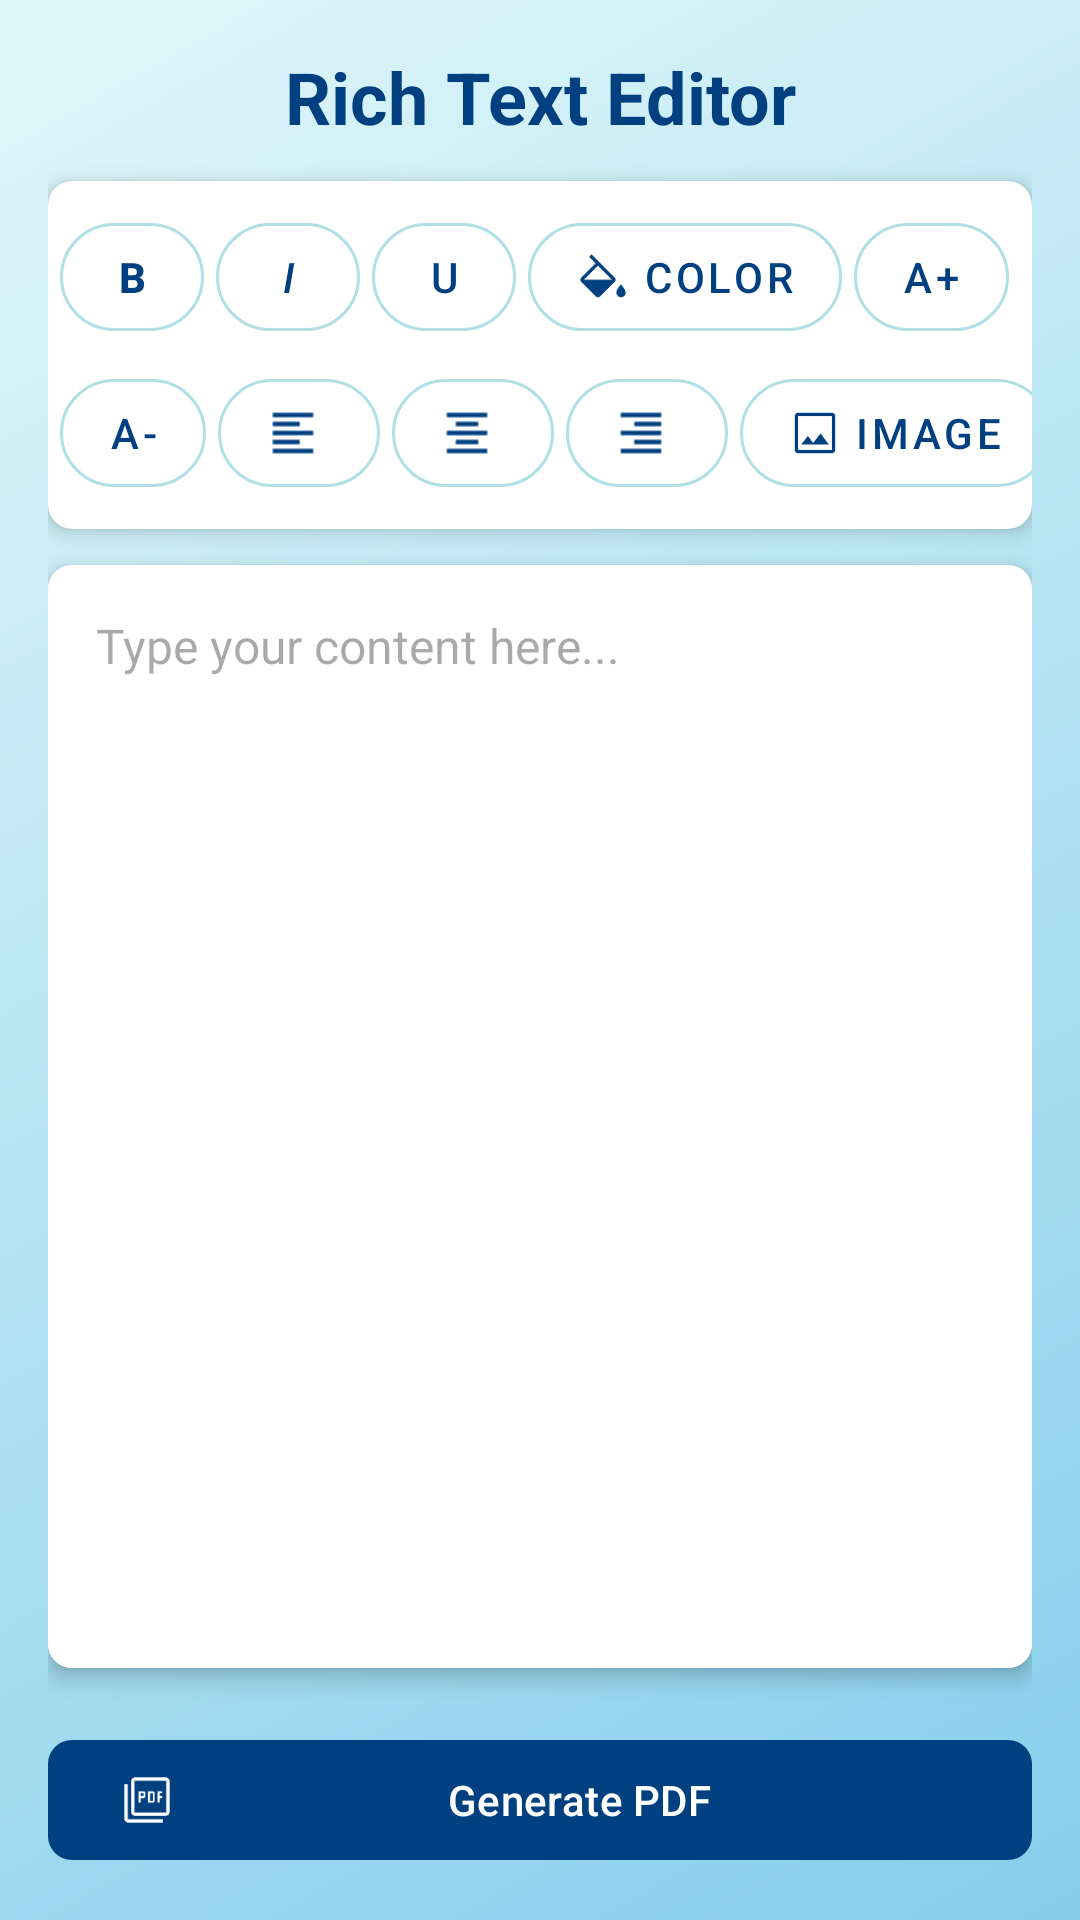

Point at icon controls on the screen. Image size 1080x1920, points as [x,y].
al center: [473,433]
al left: [299,433]
al right: [647,433]
